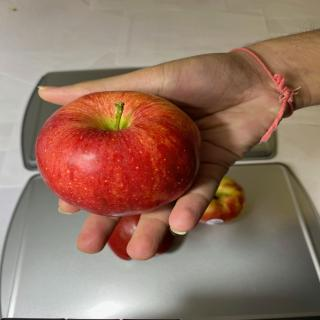Apple: (35, 90, 202, 217), (107, 214, 174, 260), (198, 176, 246, 225)
